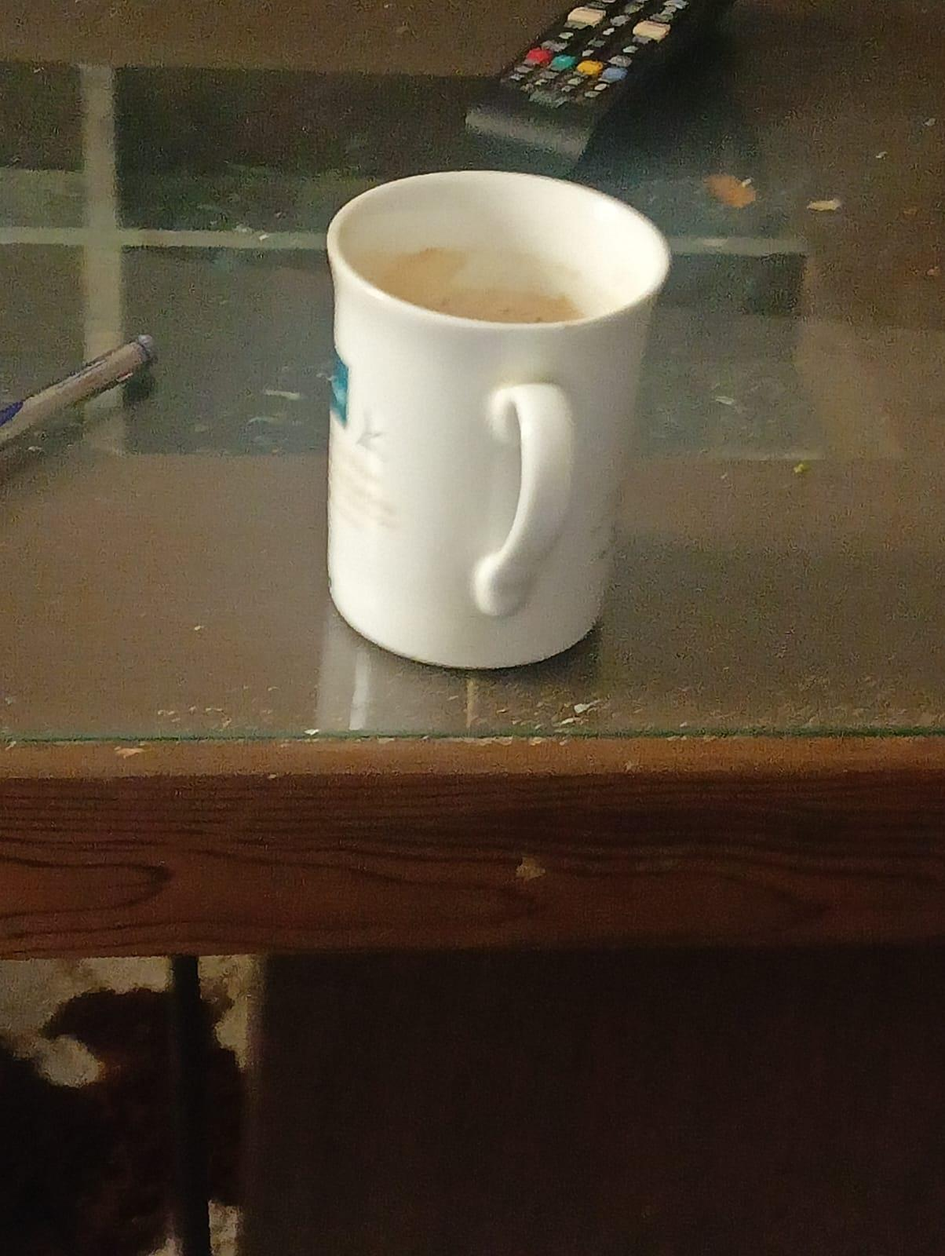cup: (327, 171, 669, 667)
